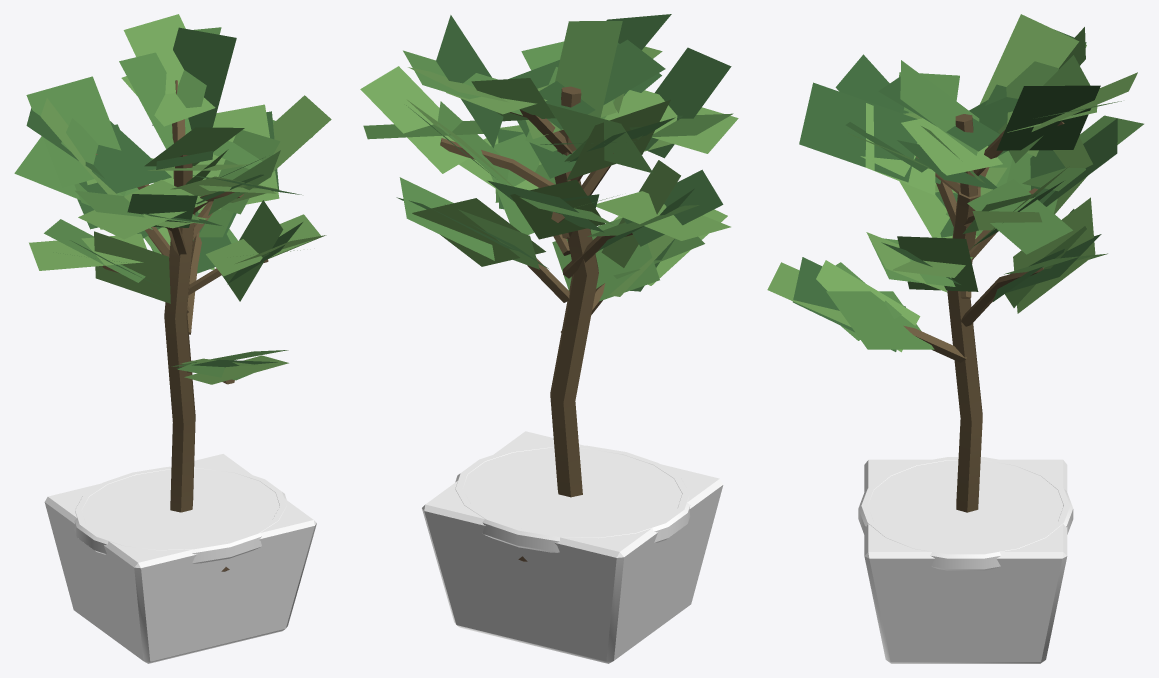
Rendered from plant-monstera.glb.
3 views of the same model, side by side, from view 1: azimuth 30°, elevation 25°; view 2: azimuth 150°, elevation 25°; view 3: azimuth 270°, elevation 25° (orthographic). The views are drawn at different scales.
Visible parts, largest first — view 1: plant-monstera.tint, plant-monstera.foliage2, plant-monstera.foliage, plant-monstera.foliage3, plant-monstera.stem; view 2: plant-monstera.tint, plant-monstera.foliage, plant-monstera.foliage2, plant-monstera.foliage3, plant-monstera.stem; view 3: plant-monstera.tint, plant-monstera.foliage3, plant-monstera.foliage, plant-monstera.foliage2, plant-monstera.stem.
Part boxes in pixels (x1,y1,x2,y2): plant-monstera.tint: (44,454,316,663); plant-monstera.foliage2: (29,14,331,384); plant-monstera.foliage: (14,27,312,380); plant-monstera.foliage3: (26,27,302,368); plant-monstera.stem: (95,80,268,512); plant-monstera.tint: (422,431,723,663); plant-monstera.foliage: (363,21,733,301); plant-monstera.foliage2: (360,46,738,296); plant-monstera.foliage3: (396,14,731,291); plant-monstera.stem: (440,86,632,497); plant-monstera.tint: (858,457,1073,663); plant-monstera.foliage3: (793,29,1117,351); plant-monstera.foliage: (826,27,1143,349); plant-monstera.foliage2: (767,14,1137,352); plant-monstera.stem: (903,114,1064,512).
Bounding box in the file's own units: 0.7 × 1.2 × 0.7.
